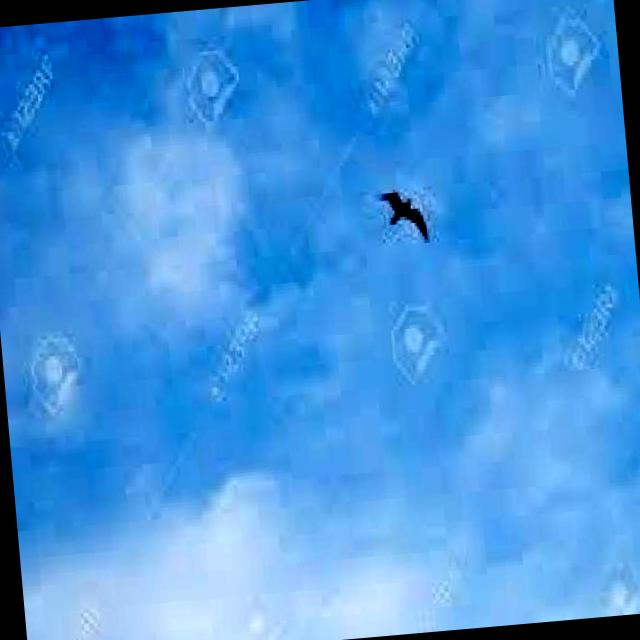bird: (373, 176, 432, 254)
